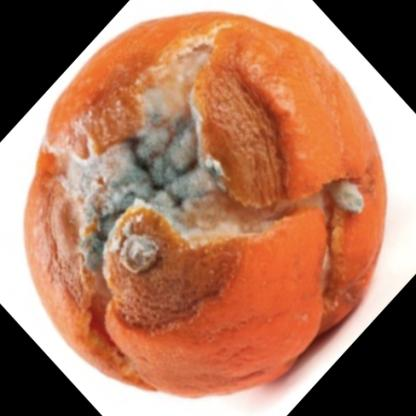rotten: (25, 11, 388, 396)
